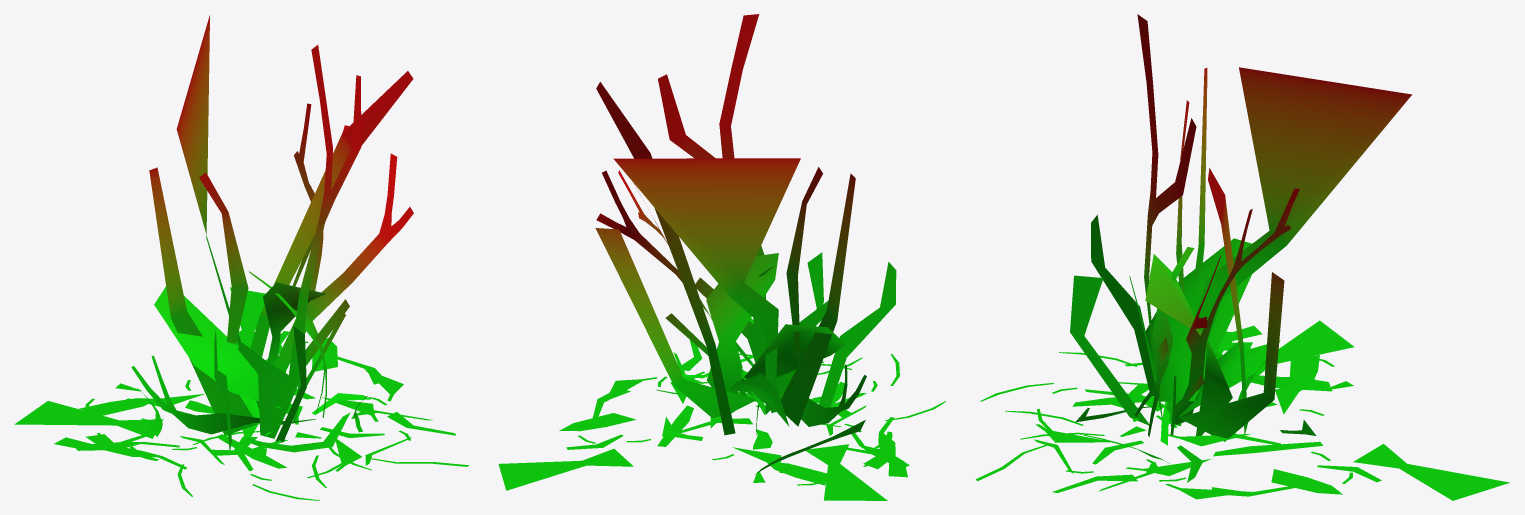
File: Dead Shrubs_LOD2_Var3_vdknbbuha.fbx
3 renders of one model, left to right at view 1: azimuth 30°, elevation 25°; view 2: azimuth 150°, elevation 25°; view 3: azimuth 270°, elevation 25°, orthographic. The views are drawn at different scales.
Visible parts, largest first — view 1: _3q1k_Var3_LOD2; view 2: _3q1k_Var3_LOD2; view 3: _3q1k_Var3_LOD2.
Boxes of the visible parts, box(x1,y1,x2,y2) form: _3q1k_Var3_LOD2: box(14, 15, 468, 500); _3q1k_Var3_LOD2: box(498, 14, 945, 500); _3q1k_Var3_LOD2: box(976, 14, 1509, 500).
Bounding box in the file's own units: 43.1 × 46.87 × 52.11.
